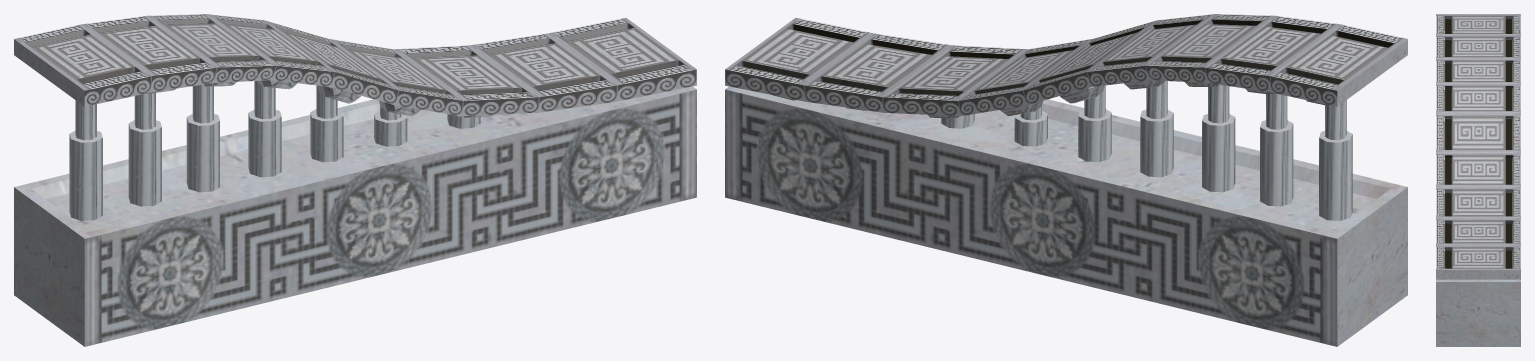
Rendered from Ramp1.fbx.
The picture shows the model from 3 angles, left to right: view 1: azimuth 30°, elevation 25°; view 2: azimuth 150°, elevation 25°; view 3: azimuth 270°, elevation 25°; orthographic projection. The views are drawn at different scales.
Visible parts, largest first — view 1: Ramp1_Set3; view 2: Ramp1_Set3; view 3: Ramp1_Set3.
Boxes of the visible parts, x1,y1,x2,y2 form: Ramp1_Set3: (14,14,696,346); Ramp1_Set3: (725,14,1407,346); Ramp1_Set3: (1436,14,1520,346).
Bounding box in the file's own units: 5 × 2 × 1.
